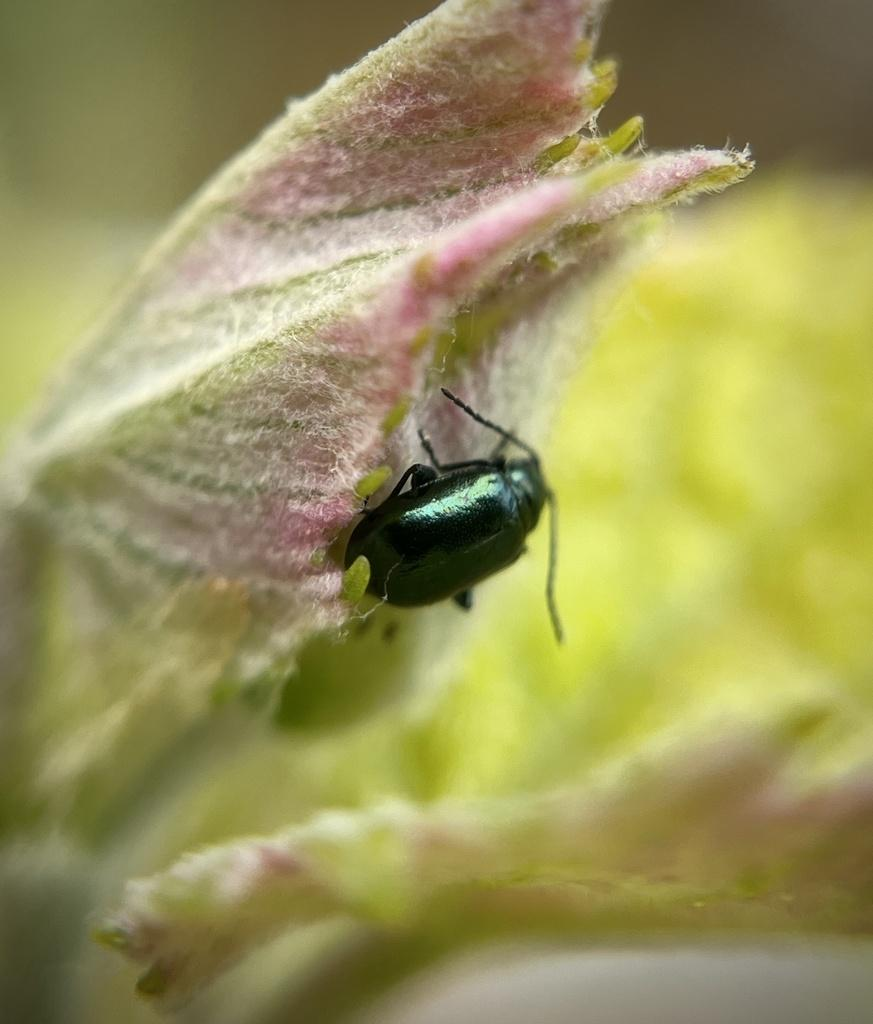flea_beetle: (302, 350, 633, 696)
